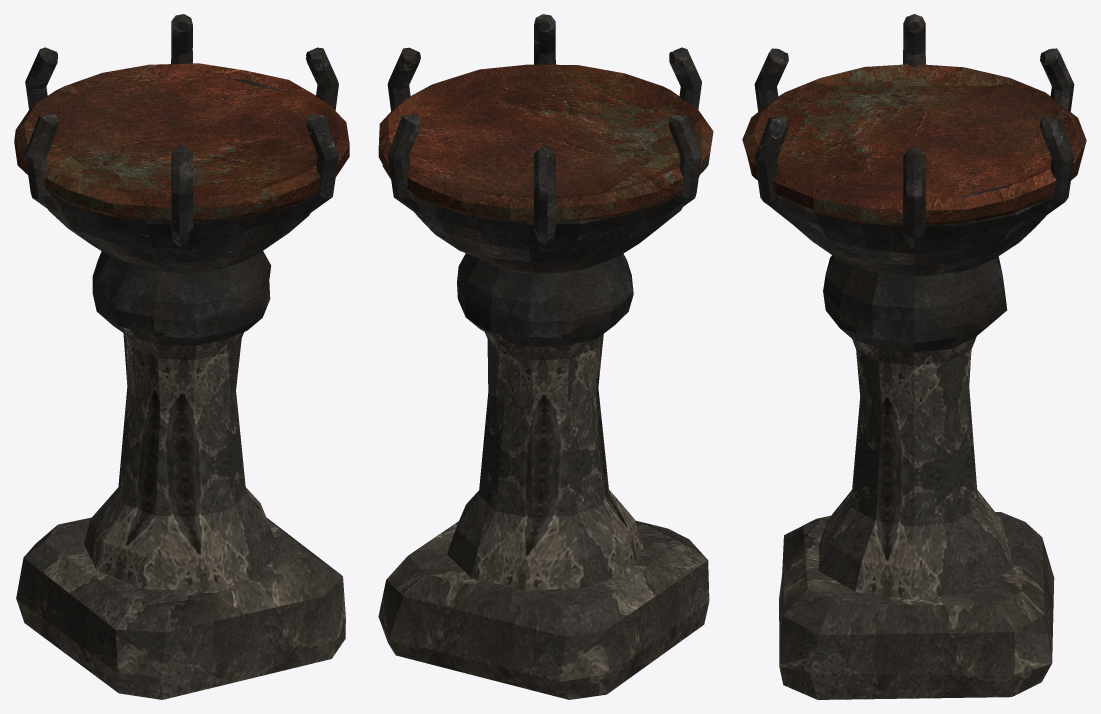
The model's file is crypt_forged_brazier.glb.
3 views of the same model, side by side, from view 1: azimuth 30°, elevation 25°; view 2: azimuth 150°, elevation 25°; view 3: azimuth 270°, elevation 25° (orthographic).
Visible parts, largest first — view 1: Crypt Forged Brazier Mesh; view 2: Crypt Forged Brazier Mesh; view 3: Crypt Forged Brazier Mesh.
Boxes of the visible parts, bbox=[...] form: Crypt Forged Brazier Mesh: bbox=[14, 14, 349, 699]; Crypt Forged Brazier Mesh: bbox=[378, 14, 713, 699]; Crypt Forged Brazier Mesh: bbox=[742, 14, 1086, 699].
Size of the model in its own units: 0.7457 by 1.26 by 0.7021.
3 materials, 3 textured.
